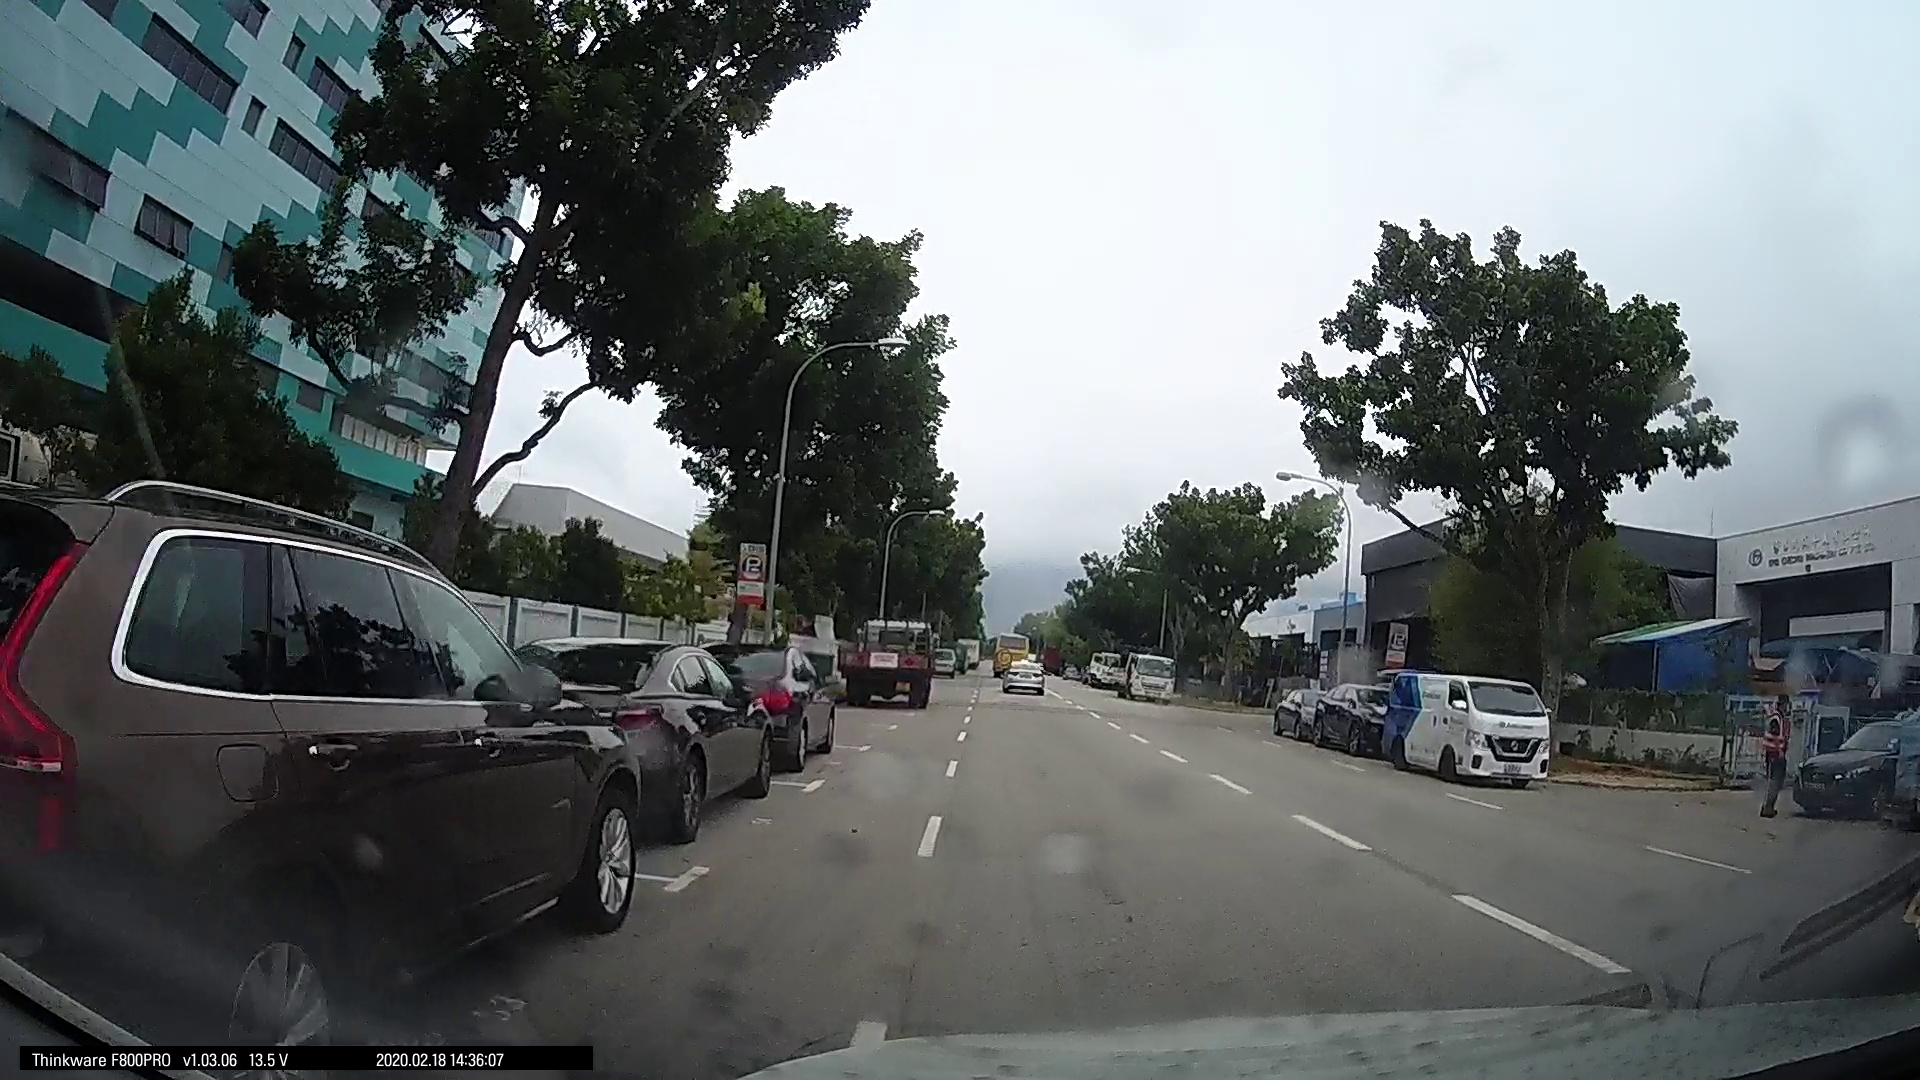Light Vehicle: (20, 505, 645, 1006), (571, 636, 771, 843), (1383, 665, 1553, 789), (719, 637, 833, 770), (1793, 705, 1913, 820), (843, 616, 930, 705), (1112, 647, 1176, 702), (994, 651, 1044, 692)
